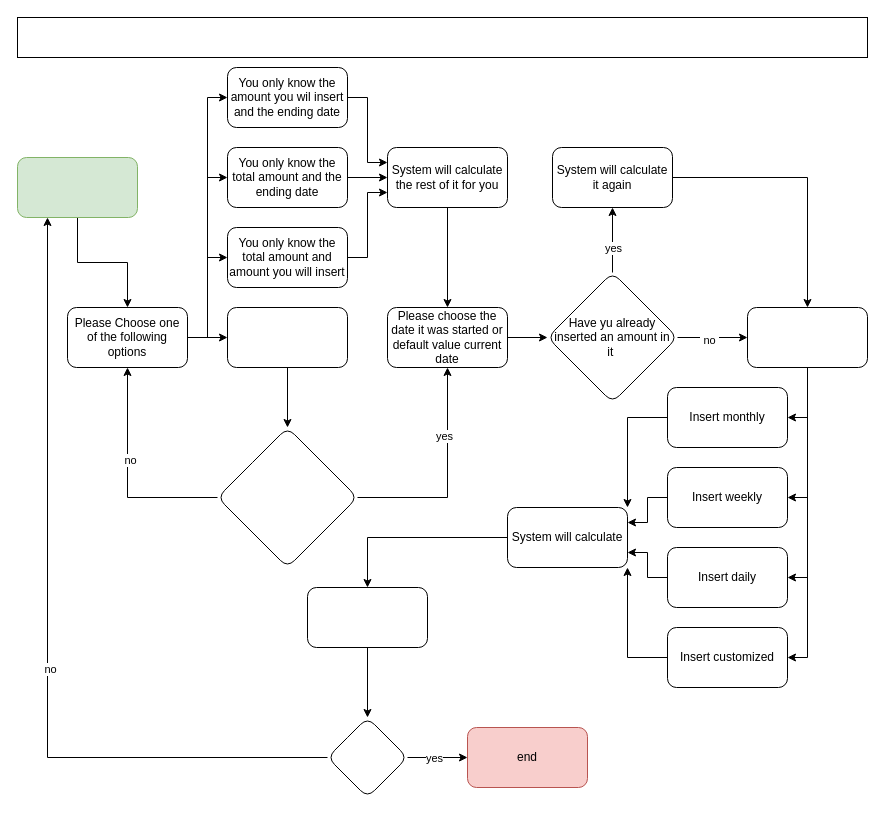
Some shapes in this 885 by 815 pixel diagram are drawn without their labels. The shapes that lost their labels are listed below. From the top down, each one's centre as x and y in pixels, then its label:
At (442,37): "This is not a flowchart this is just for guidence".
At (77,187): "Please Insert the Name of the saving Account".
At (287,337): "You have all the information".
At (807,337): "please choose an option again".
At (287,497): "Is everything working fine with each other".
At (367,617): "Show the data to user top verify".
At (367,757): "Is user okay with the data".
